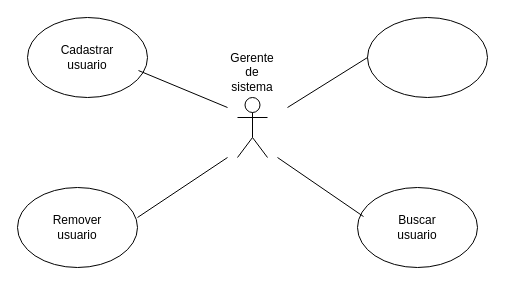
This 505x285 diagram has some shape labels left out. The centre of each missing label's shape, as x and y in pixels:
Actor: (x=252, y=127)
Editar usuario: (x=427, y=57)
